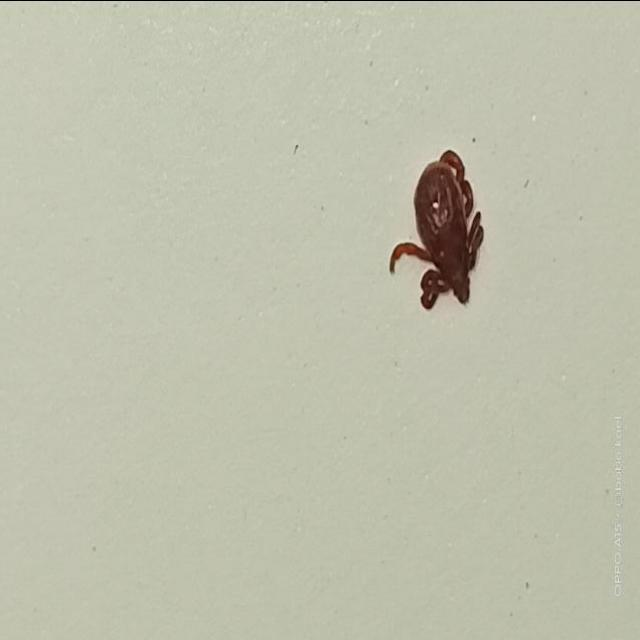Rhipicephalus Sanguineus-M: (389, 148, 486, 312)
